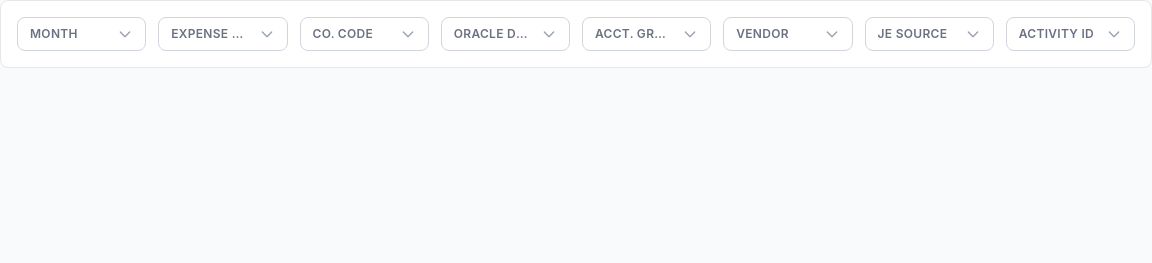
Test: FilterBar › shows All checkbox at top of dropdown
This screenshot has width=1152, height=263.
Click the button "Expense Type". click: (223,34)
box: 158,17 -> 288,51
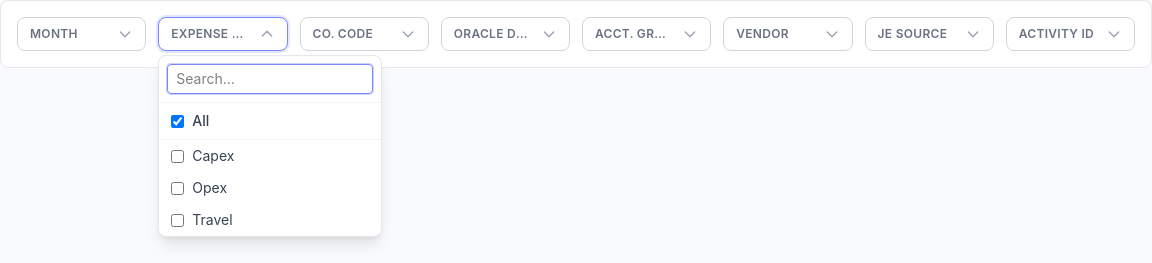
Now the checkbox labelled "All" is checked, box 171,114 -> 184,128
